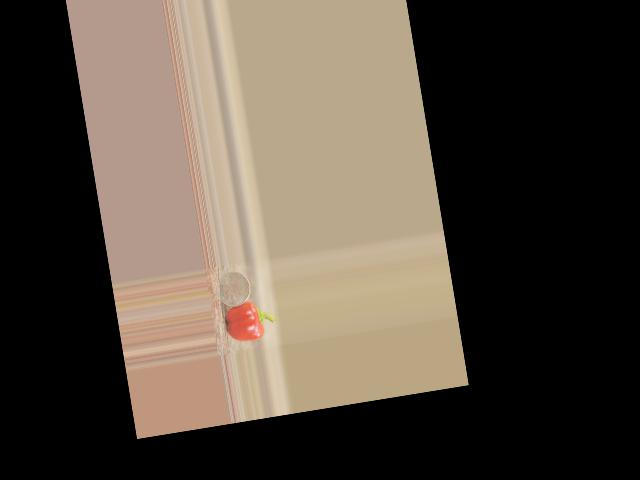bell_pepper: (221, 299, 277, 345)
